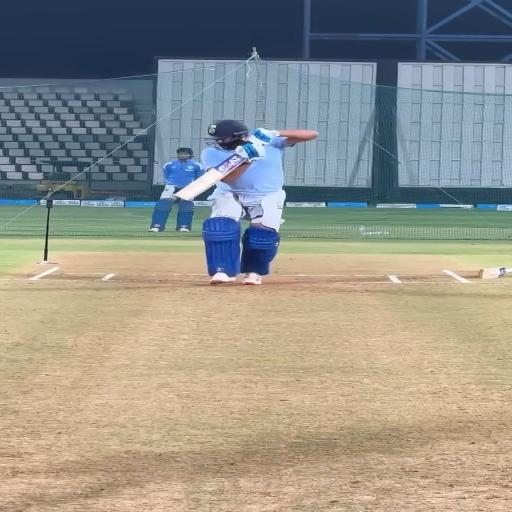Cricket bat: (175, 153, 247, 200)
